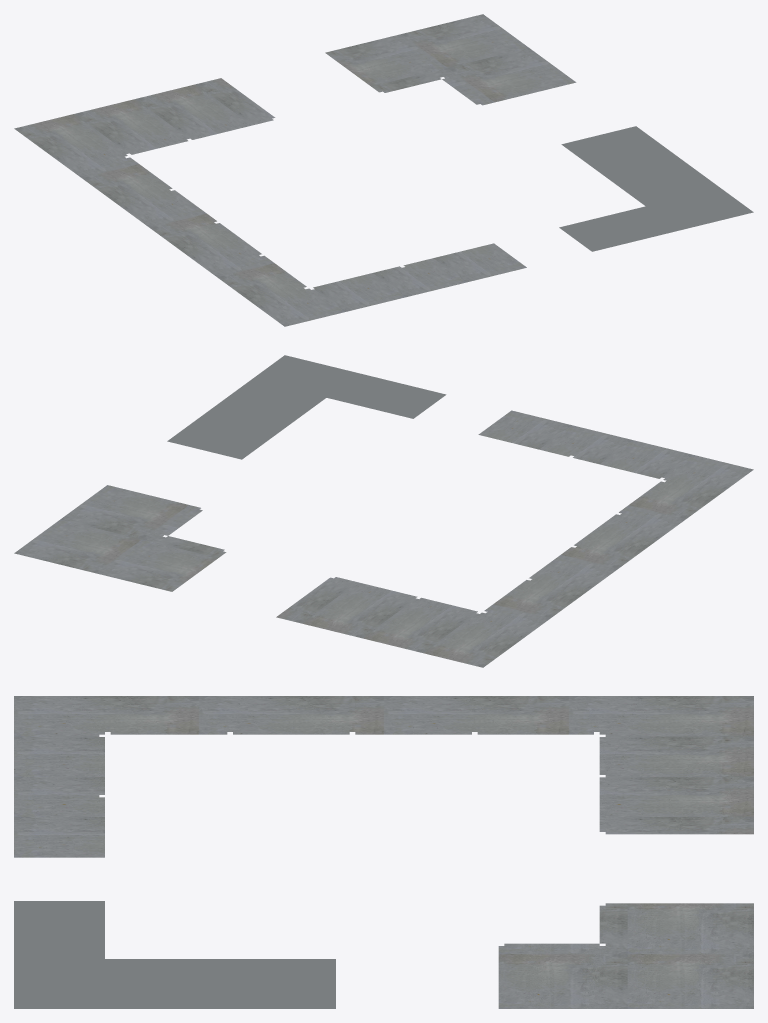
The model's file is buildingGrounds.glb.
3 views of the same model, one above another, from view 1: azimuth 30°, elevation 25°; view 2: azimuth 150°, elevation 25°; view 3: azimuth 270°, elevation 25° (orthographic). The views are drawn at different scales.
Parts seen in each view (by area): view 1: buildingGrounds.003; view 2: buildingGrounds.003; view 3: buildingGrounds.003.
Boxes of the visible parts, x1=… form: buildingGrounds.003: x1=14, y1=14, x2=753, y2=326; buildingGrounds.003: x1=14, y1=355, x2=753, y2=667; buildingGrounds.003: x1=14, y1=696, x2=753, y2=1008.
Size of the model in its own units: 65.1 by 1.1e-05 by 65.1.
Materials: 1 (1 with a texture image).
